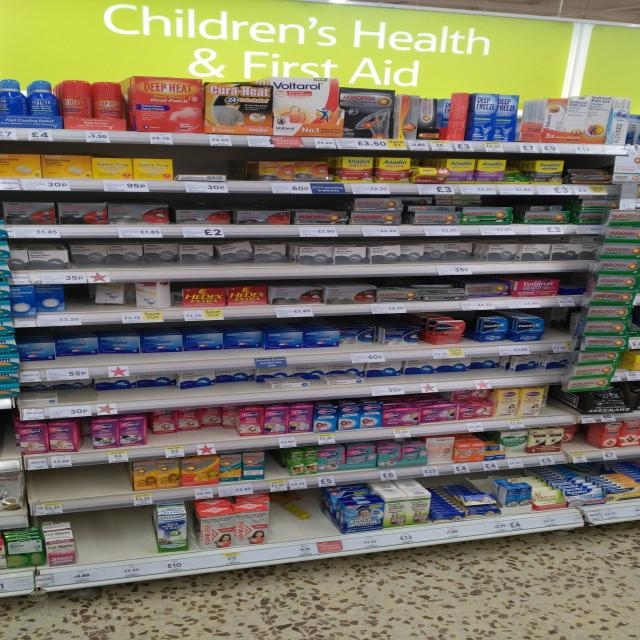void: (116, 510, 159, 577), (73, 516, 112, 588), (304, 490, 343, 554), (25, 468, 71, 515), (274, 494, 302, 562), (73, 465, 110, 513), (225, 148, 261, 194), (109, 464, 144, 509), (547, 307, 574, 353), (72, 284, 99, 324), (547, 384, 574, 424)
